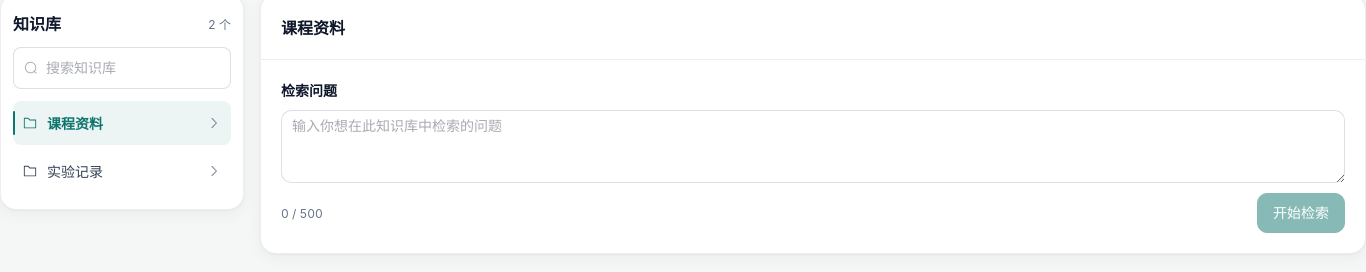
Scenario: 切换知识库时重建检索表单，保留知识库 ID 的精度
Type " 实验 " into the search field with placeholder "搜索知识库".
click(133, 68); type(" 实验 ")  # box [46,53,220,83]
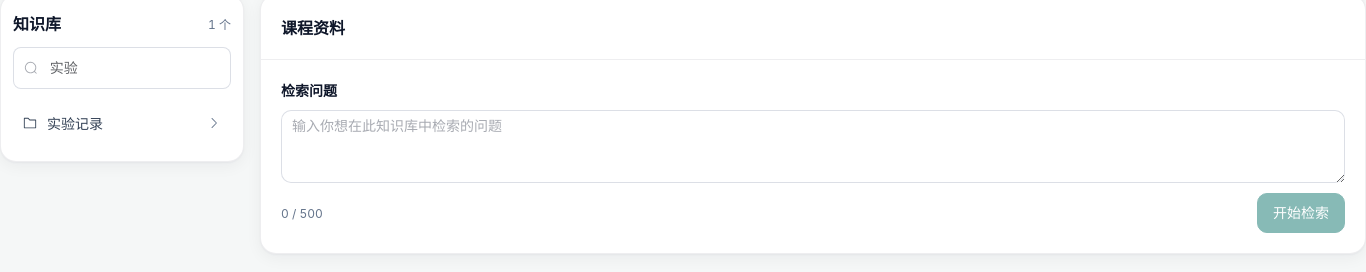
Click the button "实验记录".
click(122, 123)  # box [13,101,231,145]
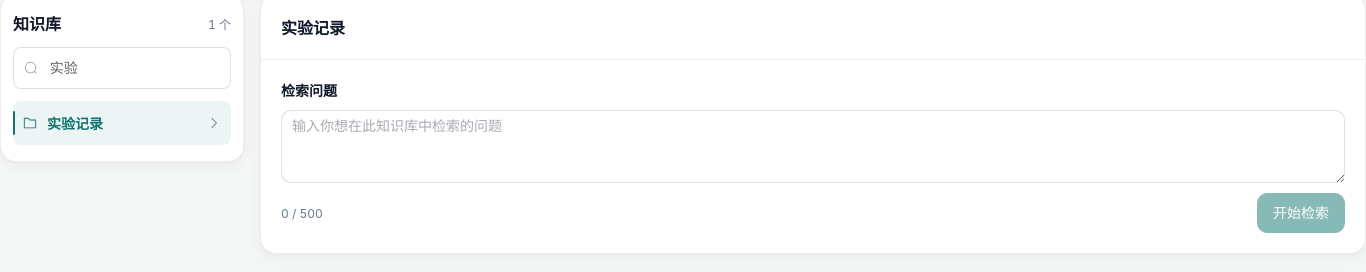
Now the heading "实验记录" is shown, box [281,18,345,38]
Replace the text in the search field named "搜索知识库" with "不存在的知识库" at (133, 68), box [46,53,220,83]
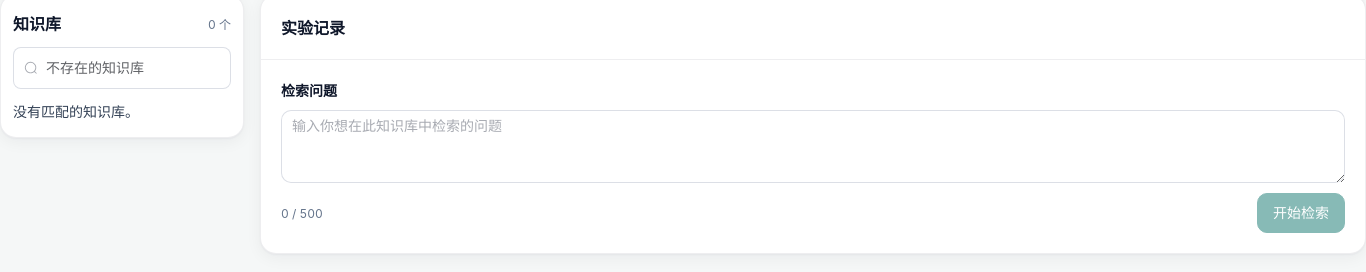
Now the element with class "tool-library" shows "没有匹配的知识库", box [13,103,139,120]
